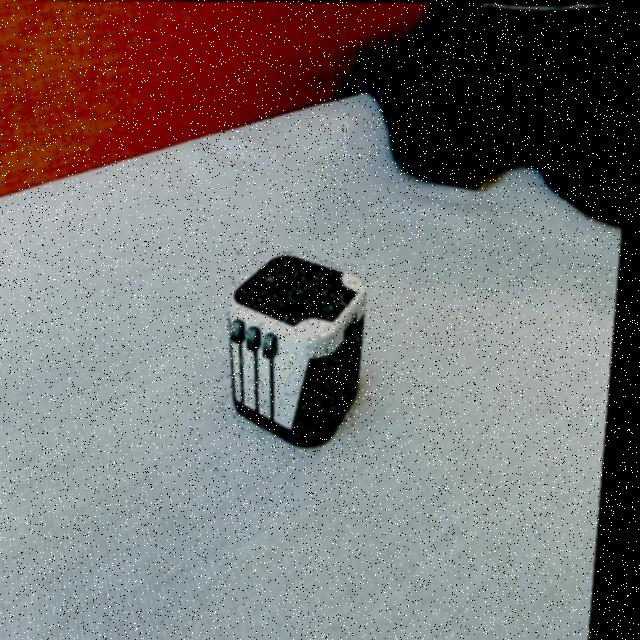adapter: (223, 249, 375, 446)
